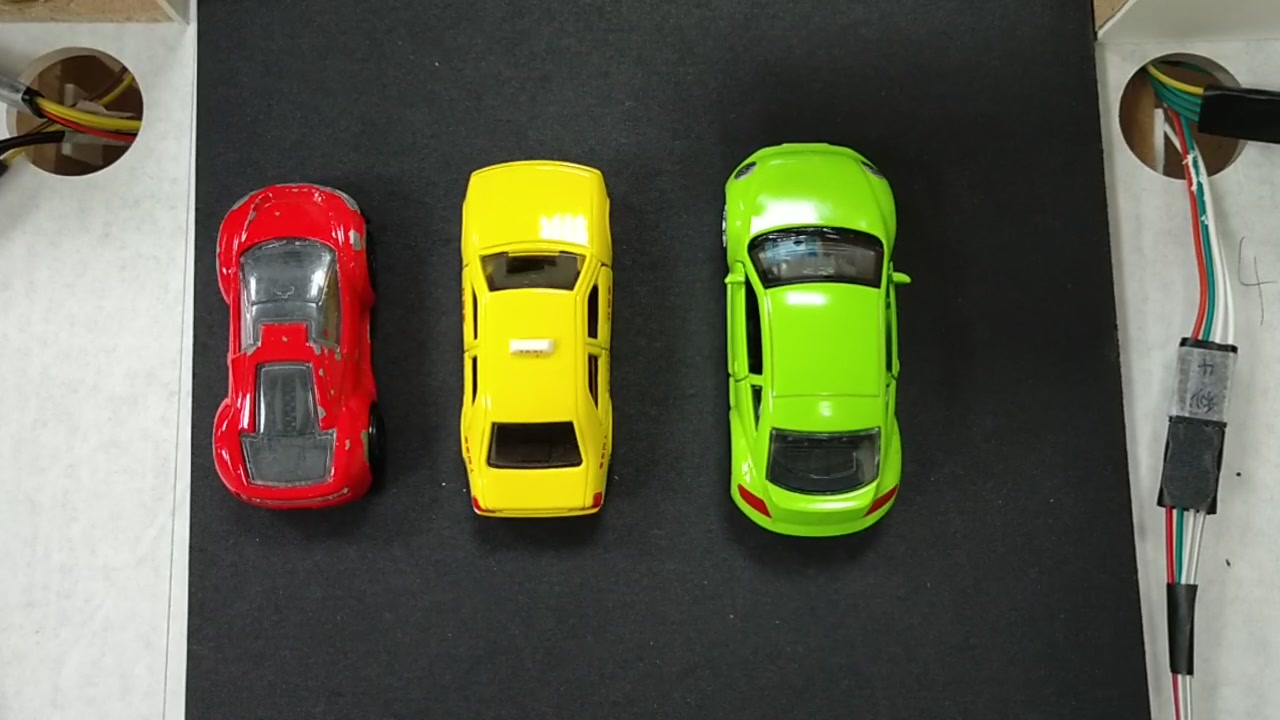car: (729, 141, 908, 544), (459, 165, 616, 515), (213, 192, 376, 509)
